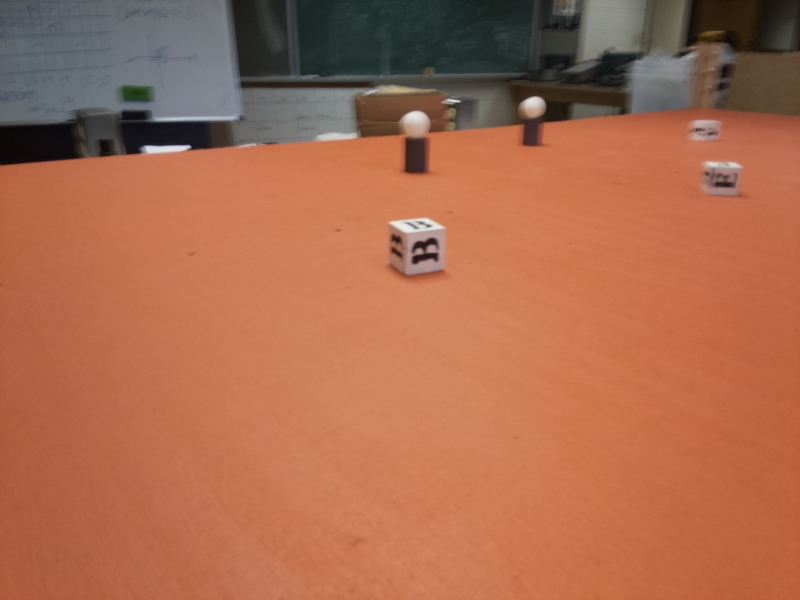blockB: (383, 214, 453, 278)
blockE: (693, 158, 744, 198)
corner: (691, 44, 724, 105)
obstacle: (397, 110, 435, 179), (517, 96, 554, 145)
